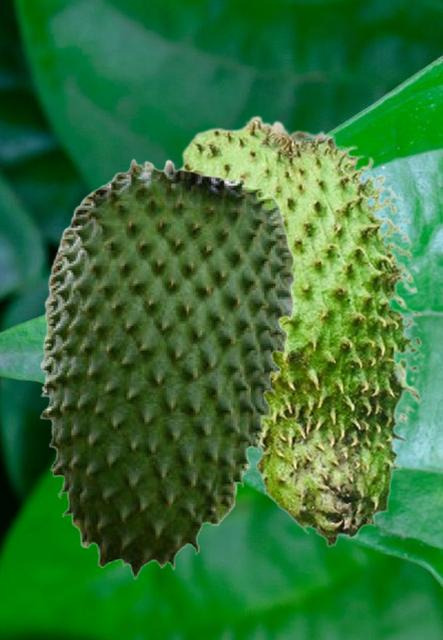guyabano: (39, 158, 295, 578), (177, 114, 425, 547)
